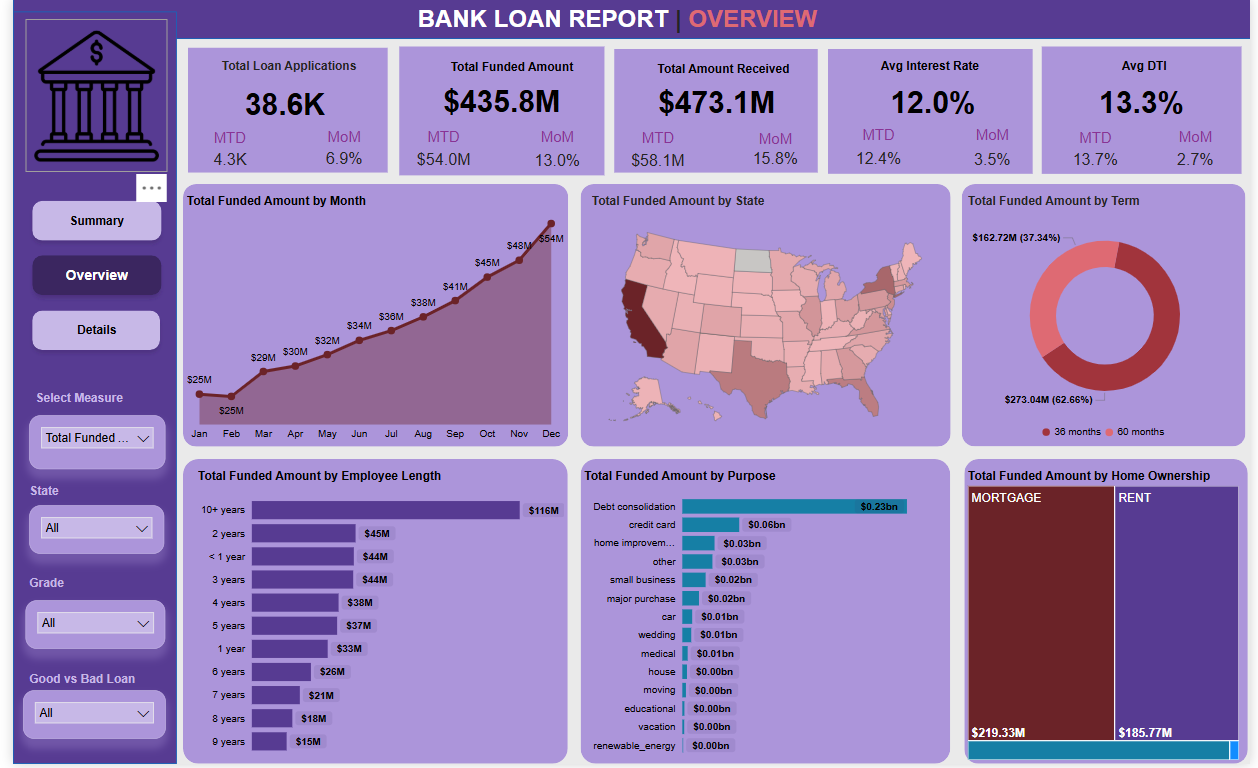

The page's visual inventory and layout, read from the dashboard file:
{"tool":"powerbi","page":{"name":"Overview","canvas":[1650,1020],"ordinal":1},"visuals":[{"type":"shape","box":[0,0,1650,53.3],"z":0},{"type":"shape","box":[0,16.7,218.3,1003.3],"z":1000},{"type":"textbox","box":[516.7,3.3,575,53.3],"z":2000},{"type":"shape","box":[514.5,62.8,273.3,171.7],"z":2000,"group":"g2"},{"type":"shape","box":[1371,63.9,266.7,170],"z":2000,"group":"g5"},{"type":"shape","box":[233.5,64.6,266.7,166.7],"z":2000,"group":"g1"},{"type":"shape","box":[1085.9,66.2,273.3,166.7],"z":2000,"group":"g4"},{"type":"shape","box":[802.2,67.2,271.7,165],"z":2000,"group":"g3"},{"type":"group","id":"g1","title":"Group 1","box":[233.5,64.6,266.7,169],"z":3000},{"type":"card","fields":{"Values":["bankloandataset.Average Interest Rate"]},"box":[1116,105.8,220,58.3],"z":4000,"group":"g4"},{"type":"card","fields":{"Values":["bankloandataset.Avg DTI"]},"box":[1399.4,107.4,210,60],"z":4000,"group":"g5"},{"type":"card","fields":{"Values":["bankloandataset.Total Loan Applications"]},"box":[254.3,108.6,218.3,61.7],"z":4000,"group":"g1"},{"type":"card","fields":{"Values":["bankloandataset.Total Funded Amount"]},"box":[533.7,109.8,236.7,50],"z":4000,"group":"g2"},{"type":"card","fields":{"Values":["bankloandataset.Total Amount Received"]},"box":[824.8,110,226.7,53.3],"z":4000,"group":"g3"},{"type":"shape","box":[226.7,246.7,513.3,350],"z":4000},{"type":"group","id":"g2","title":"Group 1","box":[514.5,62.8,273.3,175.4],"z":5000},{"type":"textbox","box":[1111,74.2,221.7,43.3],"z":5000,"group":"g4"},{"type":"textbox","box":[254.3,75.2,225,41.7],"z":5000,"group":"g1"},{"type":"textbox","box":[1394.4,75.7,226.7,33.3],"z":5000,"group":"g5"},{"type":"textbox","box":[533.7,76.5,238.3,36.7],"z":5000,"group":"g2"},{"type":"textbox","box":[824.8,80,231.7,31.7],"z":5000,"group":"g3"},{"type":"group","id":"g3","title":"Group 1","box":[802.2,67.2,271.7,169.4],"z":6000},{"type":"card","title":"MTD","fields":{"Values":["bankloandataset.MTD Avg Int Rate"]},"box":[1109.3,169.2,88.3,65],"z":6000,"group":"g4"},{"type":"card","title":"MTD","fields":{"Values":["bankloandataset.MTD Funded Amount"]},"box":[516.2,171.5,115,65],"z":6000,"group":"g2"},{"type":"card","title":"MTD","fields":{"Values":["bankloandataset.MTD Total Amount Received"]},"box":[805.1,173.3,110,63.3],"z":6000,"group":"g3"},{"type":"card","title":"MTD","fields":{"Values":["bankloandataset.MTD Loan Applications"]},"box":[242.6,173.6,95,60],"z":6000,"group":"g1"},{"type":"card","title":"MTD","fields":{"Values":["bankloandataset.MTD Avg DTI"]},"box":[1399.4,174,86.7,60],"z":6000,"group":"g5"},{"type":"group","id":"g4","title":"Group 1","box":[1085.9,66.2,273.3,169.6],"z":7000},{"type":"card","title":"MoM","fields":{"Values":["bankloandataset.MoM Avg Int Rate"]},"box":[1266,169.2,78.3,66.7],"z":7000,"group":"g4"},{"type":"card","title":"MoM","fields":{"Values":["bankloandataset.MoM Total Funded Amount"]},"box":[674.5,171.5,101.7,66.7],"z":7000,"group":"g2"},{"type":"card","title":"MoM","fields":{"Values":["bankloandataset.MoM Loan Applications"]},"box":[389.3,171.9,106.7,61.7],"z":7000,"group":"g1"},{"type":"card","title":"MoM","fields":{"Values":["bankloandataset.MoM Avg DTI"]},"box":[1531,172.4,90,63.3],"z":7000,"group":"g5"},{"type":"card","title":"MoM","fields":{"Values":["bankloandataset.MoM Total Amount Received"]},"box":[973.5,175.2,86.7,55],"z":7000,"group":"g3"},{"type":"group","id":"g5","title":"Group 1","box":[1371,63.9,266.7,171.8],"z":8000},{"type":"slicer","fields":{"Values":["bankloandataset.address_state"]},"box":[21.7,675,180,65],"z":9000},{"type":"textbox","box":[16.7,641.7,95,33.3],"z":10000},{"type":"slicer","fields":{"Values":["bankloandataset.grade"]},"box":[16.7,801.7,186.7,65],"z":11000},{"type":"textbox","box":[16.7,765,93.3,36.7],"z":12000},{"type":"slicer","fields":{"Values":["bankloandataset.Good Vs Bad Loan"]},"box":[13.3,921.7,190,65],"z":13000},{"type":"textbox","box":[16.7,893.3,190,28.3],"z":14000},{"type":"areaChart","fields":{"Y":["bankloandataset.Total Funded Amount"],"Category":["Date Table.Month"]},"box":[226.7,260,513.3,336.7],"z":15000},{"type":"slicer","fields":{"Values":["Select Measure.Select Measure"]},"box":[21.7,555,181.7,71.7],"z":16000},{"type":"textbox","box":[25,518.3,143.3,36.7],"z":17000},{"type":"shape","box":[756.7,246.7,493.3,350],"z":18000},{"type":"shapeMap","fields":{"Value":["bankloandataset.Total Funded Amount"],"Category":["bankloandataset.address_state"]},"box":[766.7,260,473.3,336.7],"z":19000},{"type":"shape","box":[1265,246.7,378.3,350],"z":20000},{"type":"donutChart","fields":{"Y":["bankloandataset.Total Funded Amount"],"Category":["bankloandataset.term"]},"box":[1268.3,260,375,336.7],"z":21000},{"type":"shape","box":[226.7,613.3,513.3,406.7],"z":22000},{"type":"barChart","fields":{"Y":["bankloandataset.Total Funded Amount"],"Category":["bankloandataset.emp_length"]},"box":[241.7,626.7,498.3,393.3],"z":23000},{"type":"shape","box":[756.7,613.3,493.3,406.7],"z":24000},{"type":"barChart","fields":{"Y":["bankloandataset.Total Funded Amount"],"Category":["bankloandataset.purpose"]},"box":[756.7,626.7,493.3,393.3],"z":25000},{"type":"shape","box":[1268.3,613.3,378.3,406.7],"z":26000},{"type":"treemap","fields":{"Group":["bankloandataset.home_ownership"],"Values":["bankloandataset.Total Funded Amount"]},"box":[1268.3,626.7,371.7,393.3],"z":27000},{"type":"pageNavigator","box":[16.7,260,190,218.3],"z":28000},{"type":"image","box":[16.7,26.7,190,205],"z":29000}]}

Visuals, with their boxes in screenshot pixels (x1, y1, x2, y2), scaled from the page's 1650x1020 canvas onto the 1258x768 screenshot:
shape: bbox=(0, 0, 1257, 40)
shape: bbox=(0, 13, 166, 767)
textbox: bbox=(394, 2, 832, 43)
shape: bbox=(392, 47, 601, 177)
shape: bbox=(1045, 48, 1249, 176)
shape: bbox=(178, 49, 381, 174)
shape: bbox=(828, 50, 1036, 175)
shape: bbox=(612, 51, 819, 175)
"Group 1" group: bbox=(178, 49, 381, 176)
card - bankloandataset.Average Interest Rate: bbox=(851, 80, 1019, 124)
card - bankloandataset.Avg DTI: bbox=(1067, 81, 1227, 126)
card - bankloandataset.Total Loan Applications: bbox=(194, 82, 360, 128)
card - bankloandataset.Total Funded Amount: bbox=(407, 83, 587, 120)
card - bankloandataset.Total Amount Received: bbox=(629, 83, 802, 123)
shape: bbox=(173, 186, 564, 449)
"Group 1" group: bbox=(392, 47, 601, 179)
textbox: bbox=(847, 56, 1016, 88)
textbox: bbox=(194, 57, 365, 88)
textbox: bbox=(1063, 57, 1236, 82)
textbox: bbox=(407, 58, 589, 85)
textbox: bbox=(629, 60, 806, 84)
"Group 1" group: bbox=(612, 51, 819, 178)
"MTD" card: bbox=(846, 127, 913, 176)
"MTD" card: bbox=(394, 129, 481, 178)
"MTD" card: bbox=(614, 130, 698, 178)
"MTD" card: bbox=(185, 131, 257, 176)
"MTD" card: bbox=(1067, 131, 1133, 176)
"Group 1" group: bbox=(828, 50, 1036, 178)
"MoM" card: bbox=(965, 127, 1025, 178)
"MoM" card: bbox=(514, 129, 592, 179)
"MoM" card: bbox=(297, 129, 378, 176)
"MoM" card: bbox=(1167, 130, 1236, 177)
"MoM" card: bbox=(742, 132, 808, 173)
"Group 1" group: bbox=(1045, 48, 1249, 177)
slicer - bankloandataset.address_state: bbox=(17, 508, 154, 557)
textbox: bbox=(13, 483, 85, 508)
slicer - bankloandataset.grade: bbox=(13, 604, 155, 653)
textbox: bbox=(13, 576, 84, 604)
slicer - bankloandataset.Good Vs Bad Loan: bbox=(10, 694, 155, 743)
textbox: bbox=(13, 673, 158, 694)
areaChart - bankloandataset.Total Funded Amount x Date Table.Month: bbox=(173, 196, 564, 449)
slicer - Select Measure.Select Measure: bbox=(17, 418, 155, 472)
textbox: bbox=(19, 390, 128, 418)
shape: bbox=(577, 186, 953, 449)
shapeMap - bankloandataset.Total Funded Amount x bankloandataset.address_state: bbox=(585, 196, 945, 449)
shape: bbox=(964, 186, 1253, 449)
donutChart - bankloandataset.Total Funded Amount x bankloandataset.term: bbox=(967, 196, 1253, 449)
shape: bbox=(173, 462, 564, 767)
barChart - bankloandataset.Total Funded Amount x bankloandataset.emp_length: bbox=(184, 472, 564, 767)
shape: bbox=(577, 462, 953, 767)
barChart - bankloandataset.Total Funded Amount x bankloandataset.purpose: bbox=(577, 472, 953, 767)
shape: bbox=(967, 462, 1255, 767)
treemap - bankloandataset.home_ownership x bankloandataset.Total Funded Amount: bbox=(967, 472, 1250, 767)
pageNavigator: bbox=(13, 196, 158, 360)
image: bbox=(13, 20, 158, 174)
